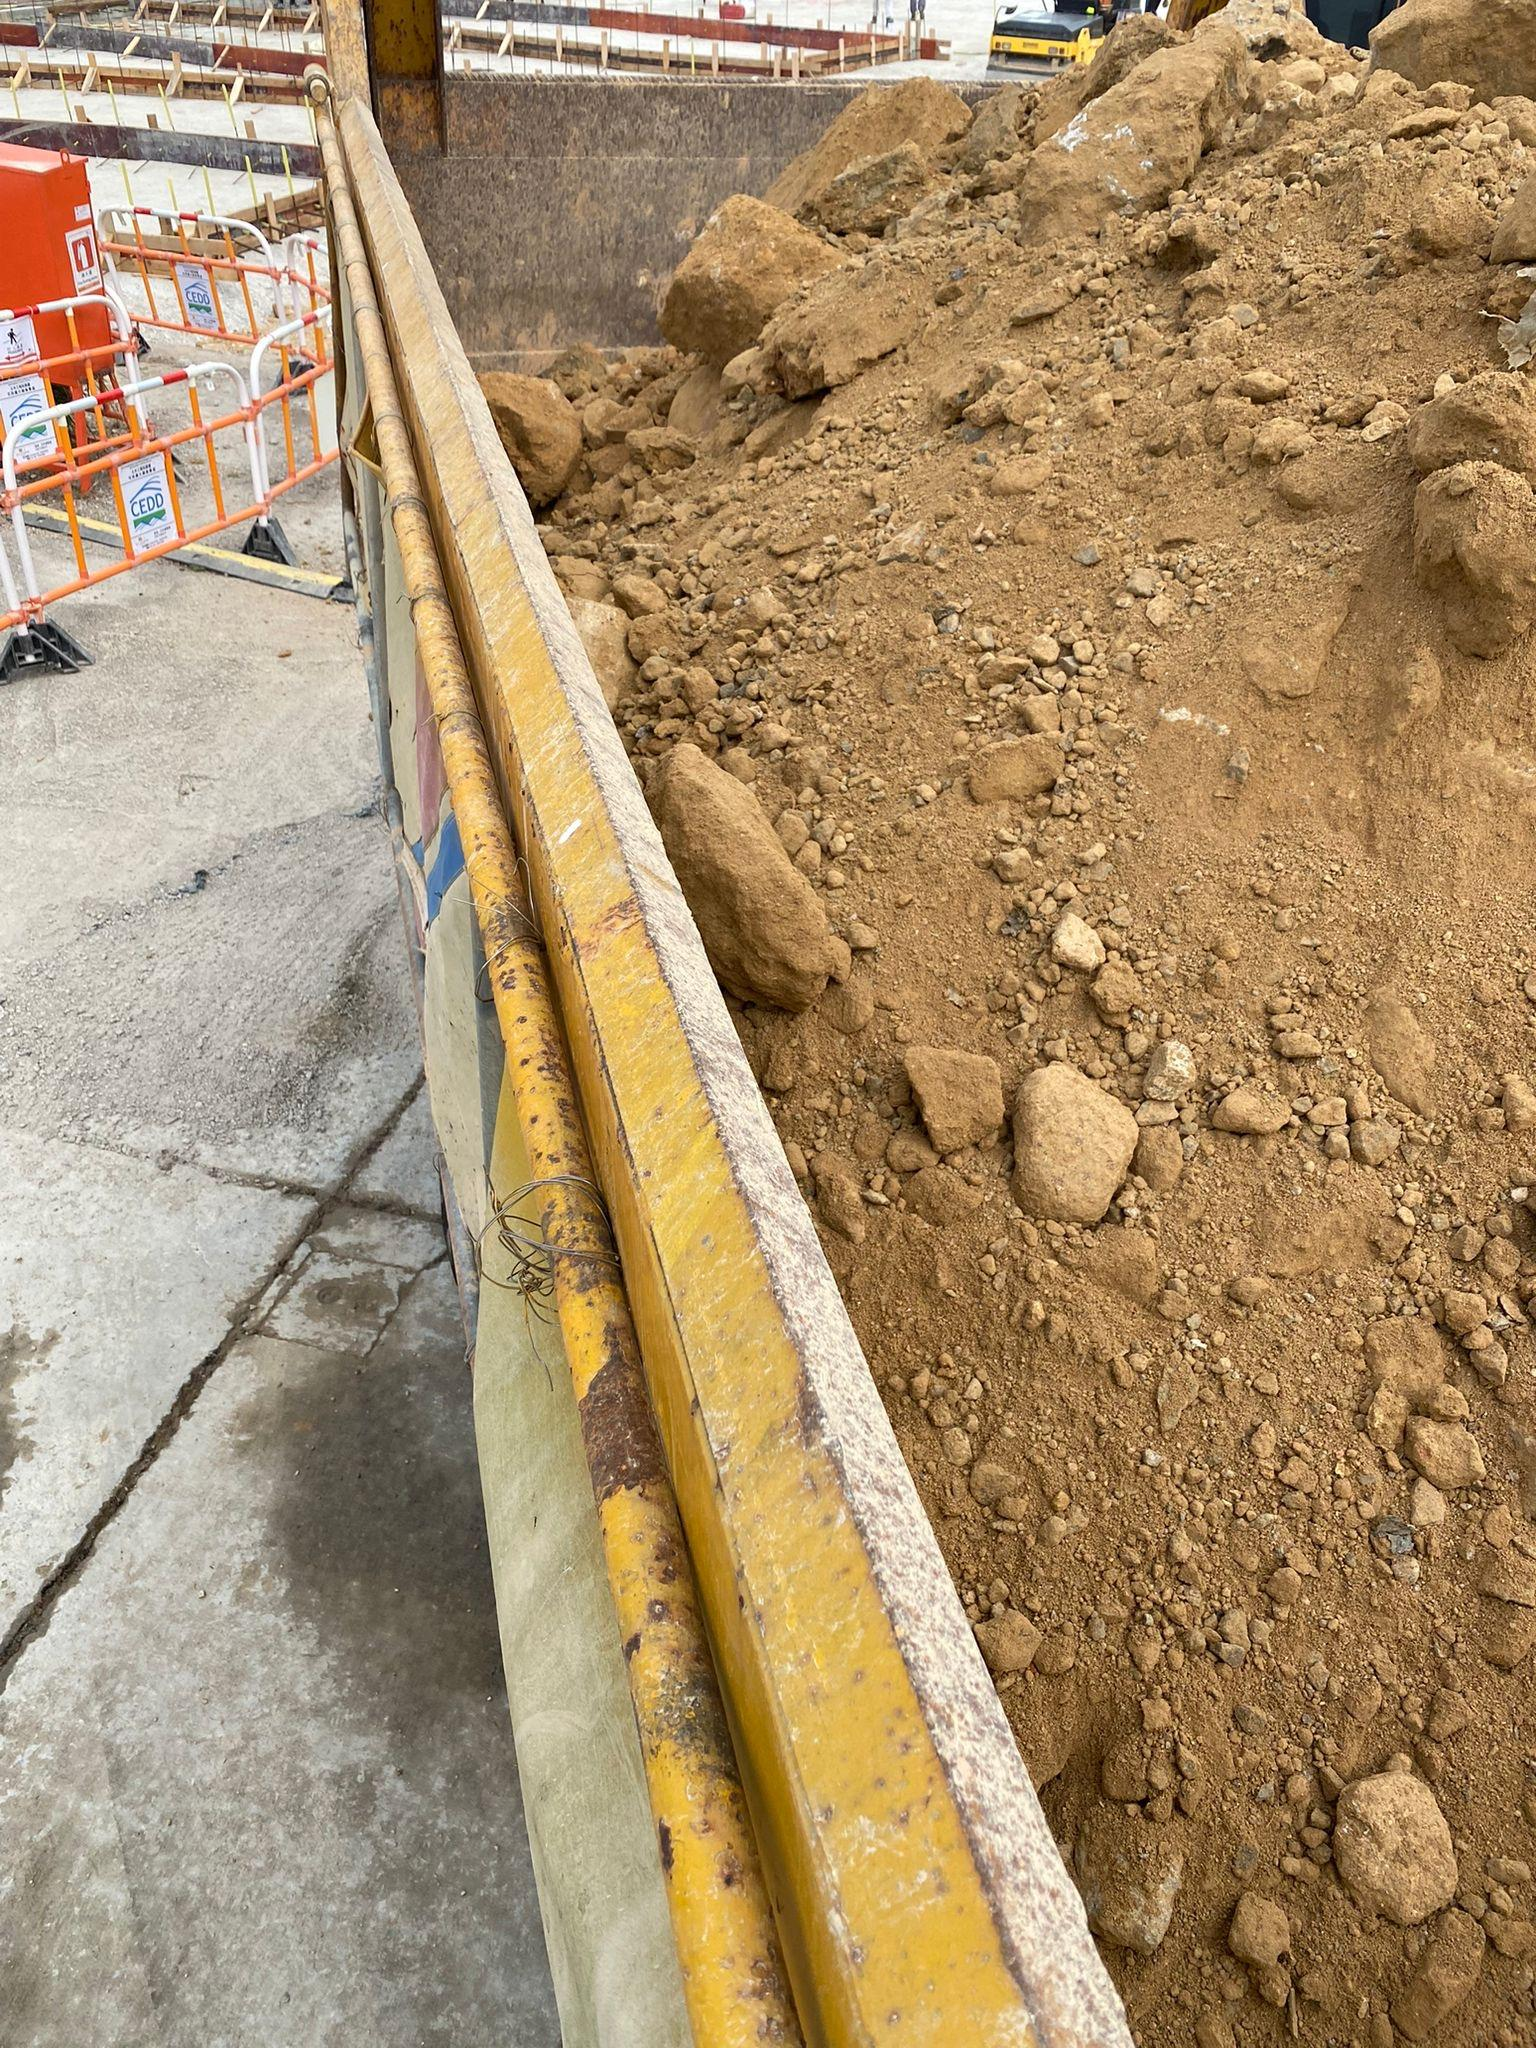dirt: (472, 3, 1534, 2043)
stone: (647, 741, 849, 1014), (657, 190, 857, 360), (1409, 456, 1534, 658), (1009, 1060, 1138, 1225), (1329, 1763, 1458, 1926), (476, 368, 584, 506), (902, 1043, 1004, 1152), (1209, 1085, 1293, 1134)
